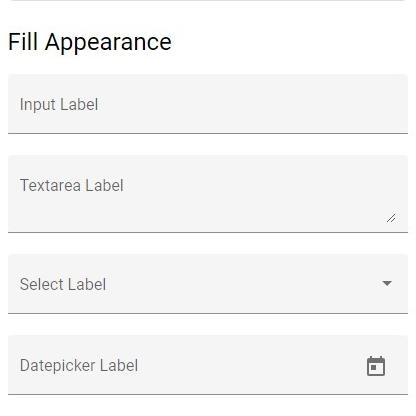field_line: (3, 173, 413, 235), (3, 83, 411, 137), (5, 345, 412, 399), (3, 266, 412, 317)
